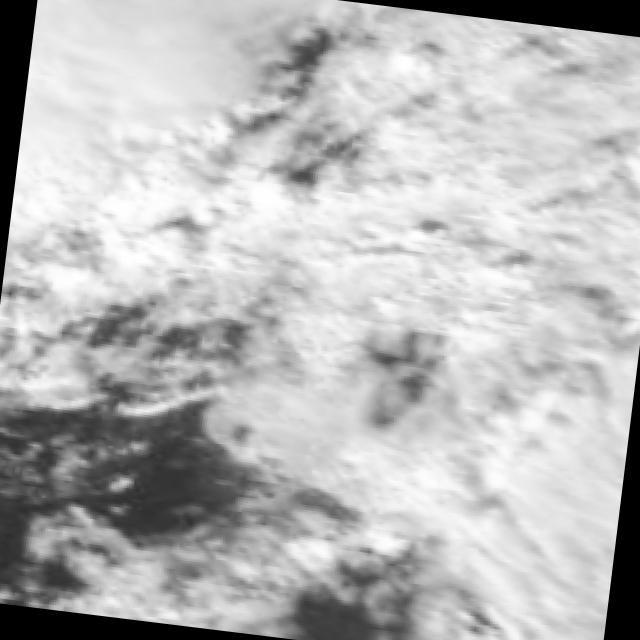CB: (350, 5, 574, 224), (437, 249, 640, 489), (461, 64, 640, 317), (164, 160, 416, 334), (16, 0, 228, 193), (472, 412, 629, 640)
